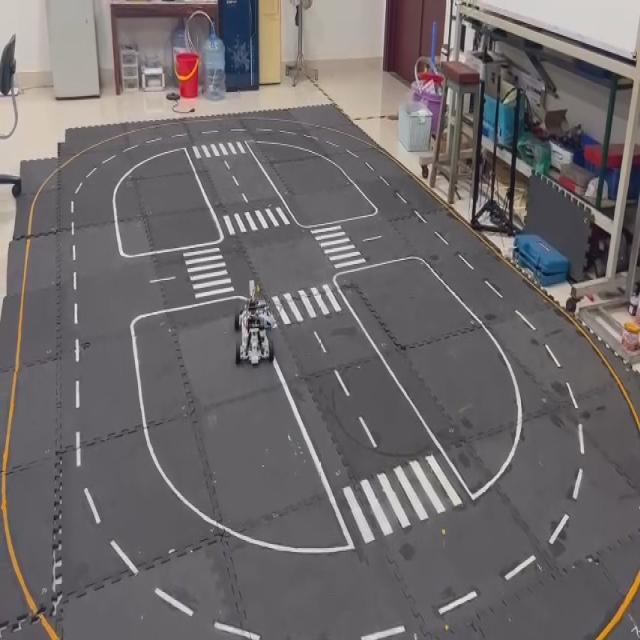SiCo-CAR: (233, 277, 277, 367)
